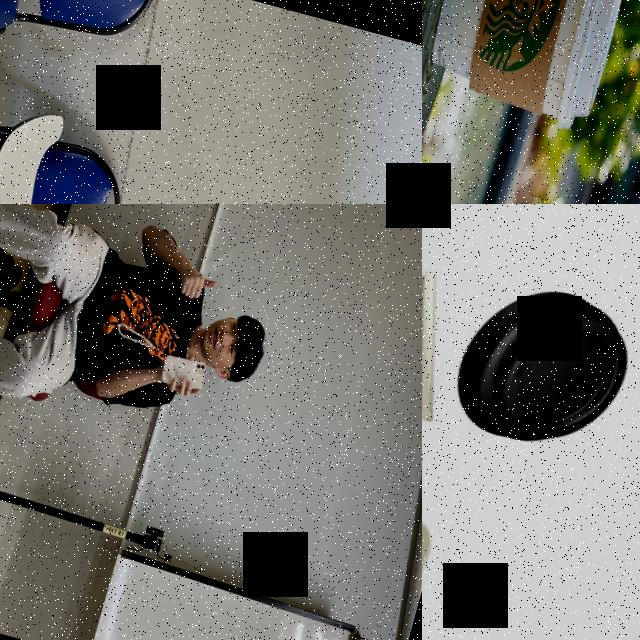cup: (422, 0, 636, 139)
